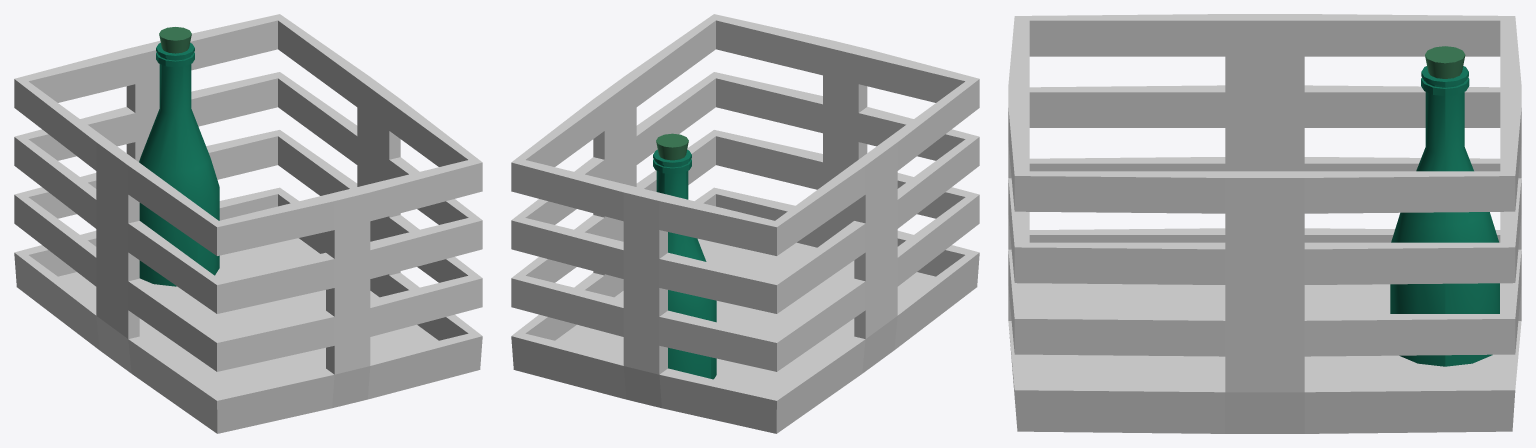
Rendered from Create.fbx.
The picture shows the model from 3 angles, left to right: view 1: azimuth 30°, elevation 25°; view 2: azimuth 150°, elevation 25°; view 3: azimuth 270°, elevation 25°; orthographic projection. The views are drawn at different scales.
Parts seen in each view (by area): view 1: Create, Rum .010; view 2: Create, Rum .010; view 3: Create, Rum .010.
Part boxes in pixels (x1,y1,x2,y2): Create: (14,14,482,433); Rum .010: (139,27,219,286); Create: (511,14,979,433); Rum .010: (653,133,716,379); Create: (1008,14,1521,433); Rum .010: (1390,46,1499,366).
Size of the model in its own units: 354 by 301 by 469.
Materials: 2 (1 with a texture image).
